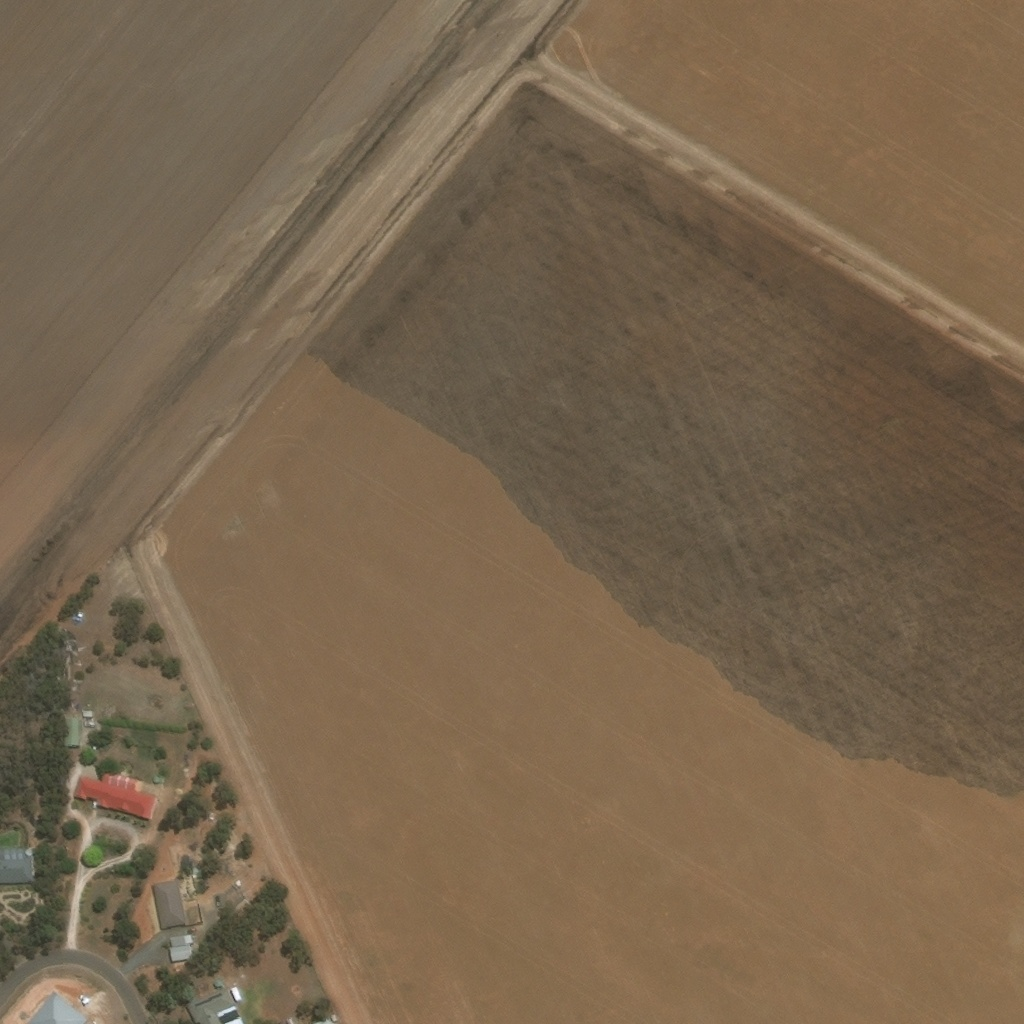0 no-damage: (72, 769, 155, 819), (186, 986, 242, 1023), (151, 879, 185, 928), (0, 849, 31, 883), (62, 718, 78, 746), (168, 944, 191, 960), (170, 933, 191, 945), (228, 982, 241, 999), (212, 978, 220, 988), (329, 1014, 337, 1022), (82, 712, 92, 717)
4 un-classified: (73, 704, 78, 709)
